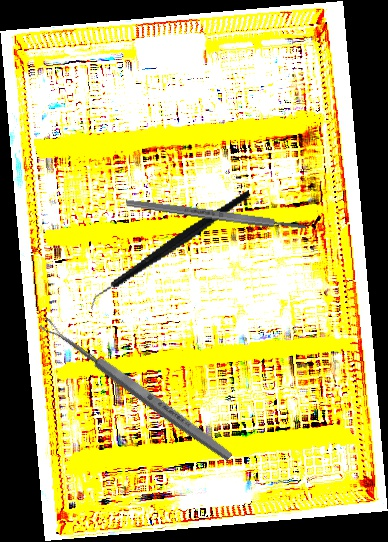Chopper: (72, 189, 269, 314)
Scalpel Handle: (125, 197, 307, 233)
Surgical Spoon: (38, 315, 235, 464)
